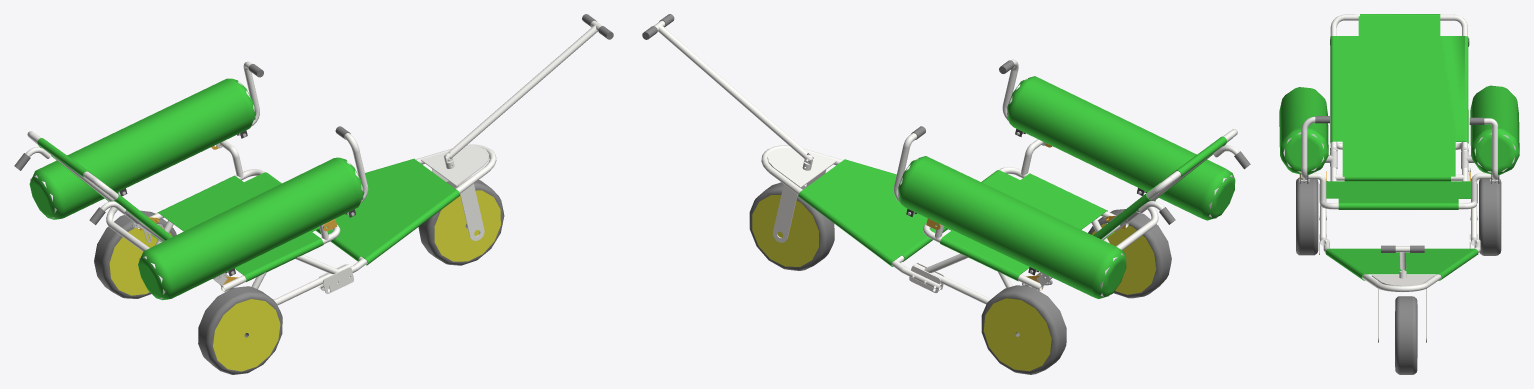
The model's file is SILLA_ANFIBIA.glb.
The picture shows the model from 3 angles, left to right: view 1: azimuth 30°, elevation 25°; view 2: azimuth 150°, elevation 25°; view 3: azimuth 270°, elevation 25°; orthographic projection. The views are drawn at different scales.
Visible parts, largest first — view 1: Solid1:109, Solid1:63, Solid1:81, Solid1:95, Solid1:19, Solid1:97, Solid1:96, Solid1:83, Solid1:80, Solid1:49, Solid1:82, Solid3:3; view 2: Solid1:63, Solid1:109, Solid1:81, Solid1:96, Solid1:19, Solid1:97, Solid1:95, Solid1:83, Solid1:80, Solid1:49, Solid1:82; view 3: Solid1:49, Solid1:19, Solid1:63, Solid1:109, Solid1:81, Solid1:97, Solid1:95, Solid1:96, Solid1:80, Solid1:102, Solid1:55, Solid1:30 (+1 smaller).
Part boxes in pixels (box(x1,y1,x2,y2)): Solid1:109: box(138, 157, 364, 300); Solid1:63: box(29, 78, 256, 219); Solid1:81: box(316, 158, 459, 265); Solid1:95: box(198, 286, 282, 374); Solid1:19: box(157, 172, 323, 281); Solid1:97: box(418, 180, 504, 265); Solid1:96: box(94, 210, 176, 298); Solid1:83: box(450, 24, 597, 155); Solid1:80: box(421, 146, 489, 186); Solid1:49: box(37, 138, 172, 241); Solid1:82: box(431, 153, 484, 240); Solid3:3: box(323, 267, 353, 293); Solid1:63: box(898, 156, 1126, 298); Solid1:109: box(1007, 76, 1235, 220); Solid1:81: box(798, 159, 947, 266); Solid1:96: box(981, 285, 1066, 374); Solid1:19: box(940, 170, 1107, 281); Solid1:97: box(749, 182, 834, 270); Solid1:95: box(1088, 209, 1171, 298); Solid1:83: box(658, 24, 806, 156); Solid1:80: box(767, 147, 836, 187); Solid1:49: box(1093, 136, 1226, 240); Solid1:82: box(773, 154, 826, 242); Solid1:49: box(1330, 14, 1468, 181); Solid1:19: box(1319, 181, 1477, 209); Solid1:63: box(1470, 85, 1519, 175); Solid1:109: box(1279, 87, 1328, 175); Solid1:81: box(1325, 248, 1478, 280); Solid1:97: box(1395, 296, 1417, 374); Solid1:95: box(1296, 177, 1318, 255); Solid1:96: box(1479, 177, 1501, 255); Solid1:80: box(1371, 275, 1434, 286); Solid1:102: box(1301, 130, 1307, 167); Solid1:55: box(1492, 127, 1497, 169); Solid1:30: box(1330, 26, 1336, 181).
Bounding box in the file's own units: 2.27 × 0.8226 × 0.972.
